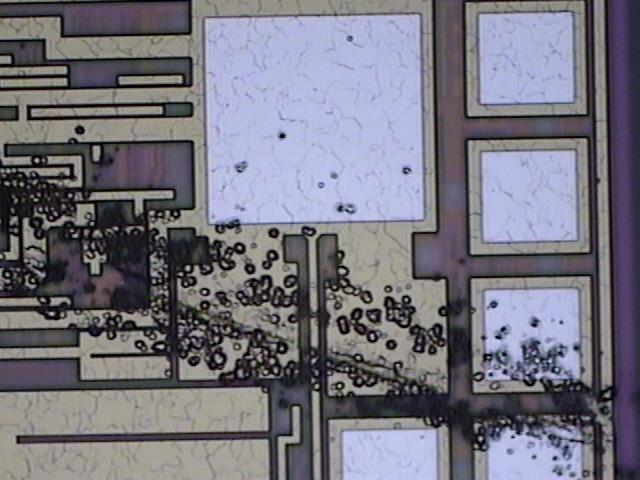PO CONTAMINATION: (1, 30, 630, 480)
